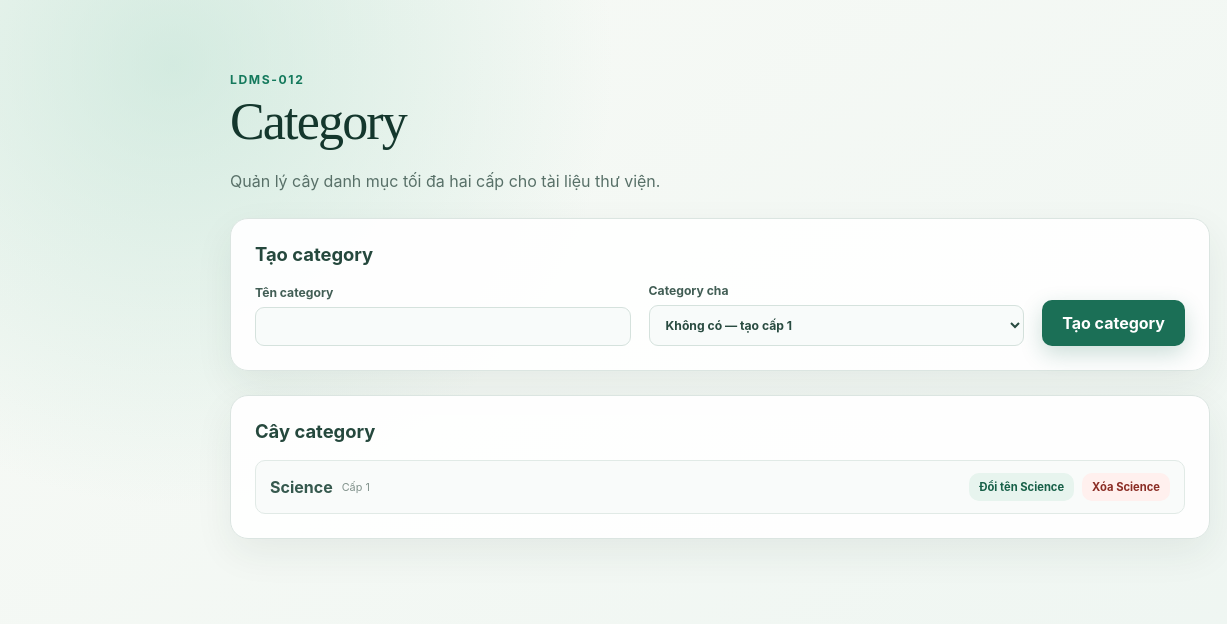
Scenario: CategoriesPage › creates a child, renames it and deletes it
Expected: the button "Đổi tên Science" is shown, [969,473,1074,501]
Type "Physics" into the field labelled "Tên category".
click(443, 326); type("Physics")  # box [255,307,631,346]
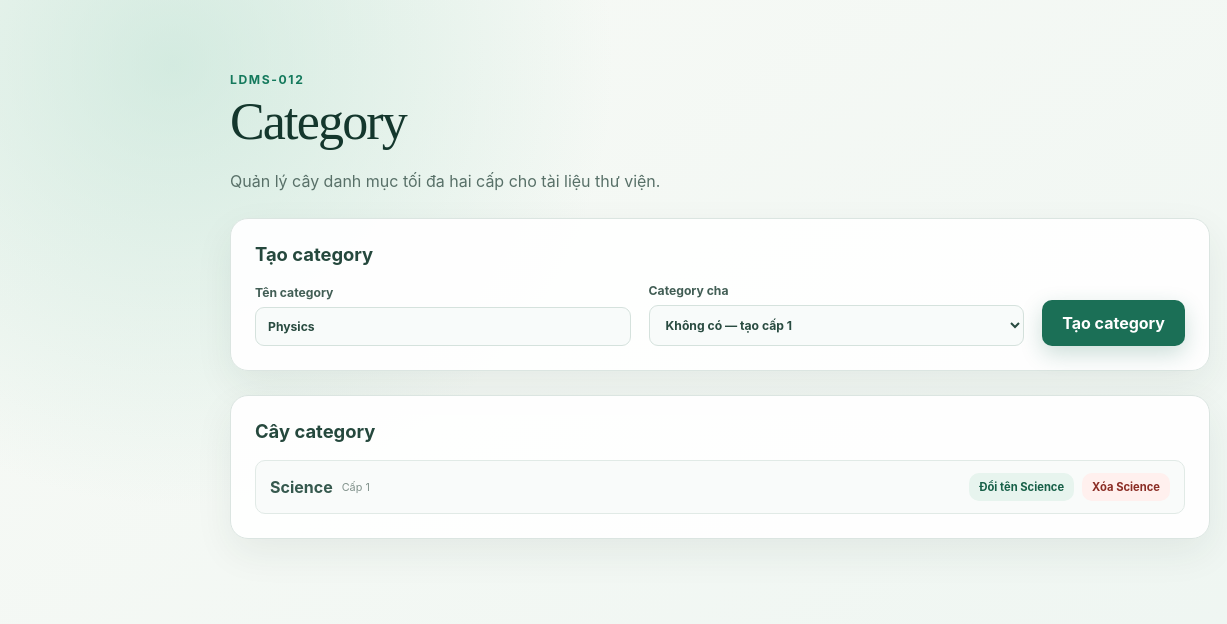
Select "Science" in the dropdown labelled "Category cha" at (836, 326), box [649,305,1024,346]
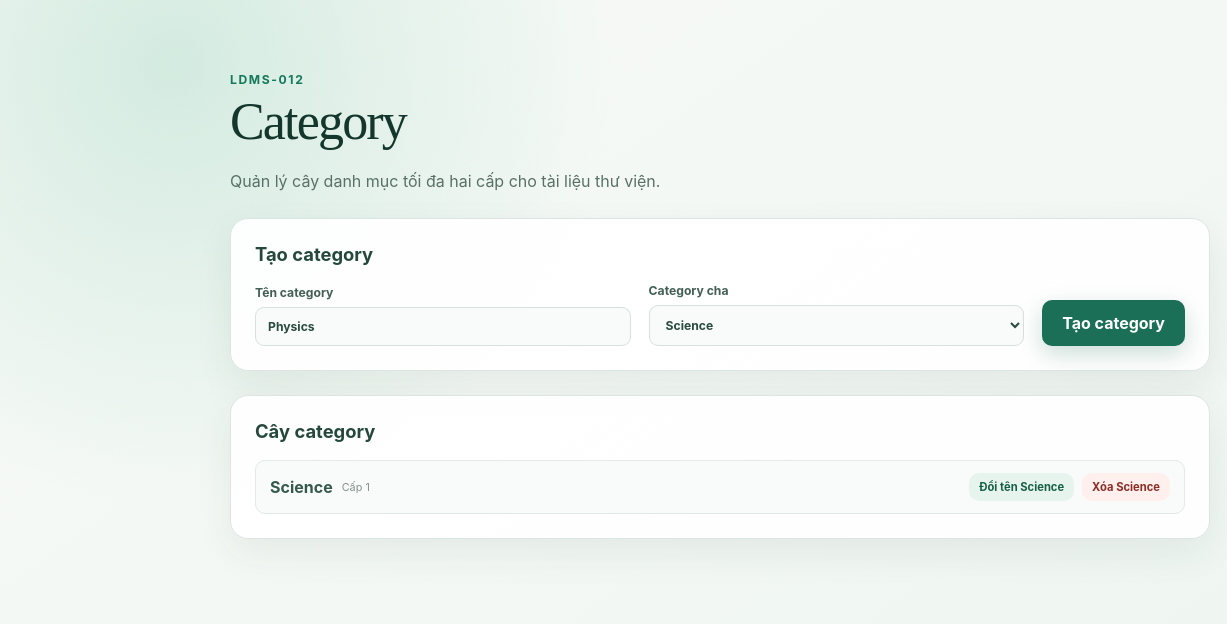
Click the button "Tạo category".
click(1114, 323)  # box [1042,300,1185,346]
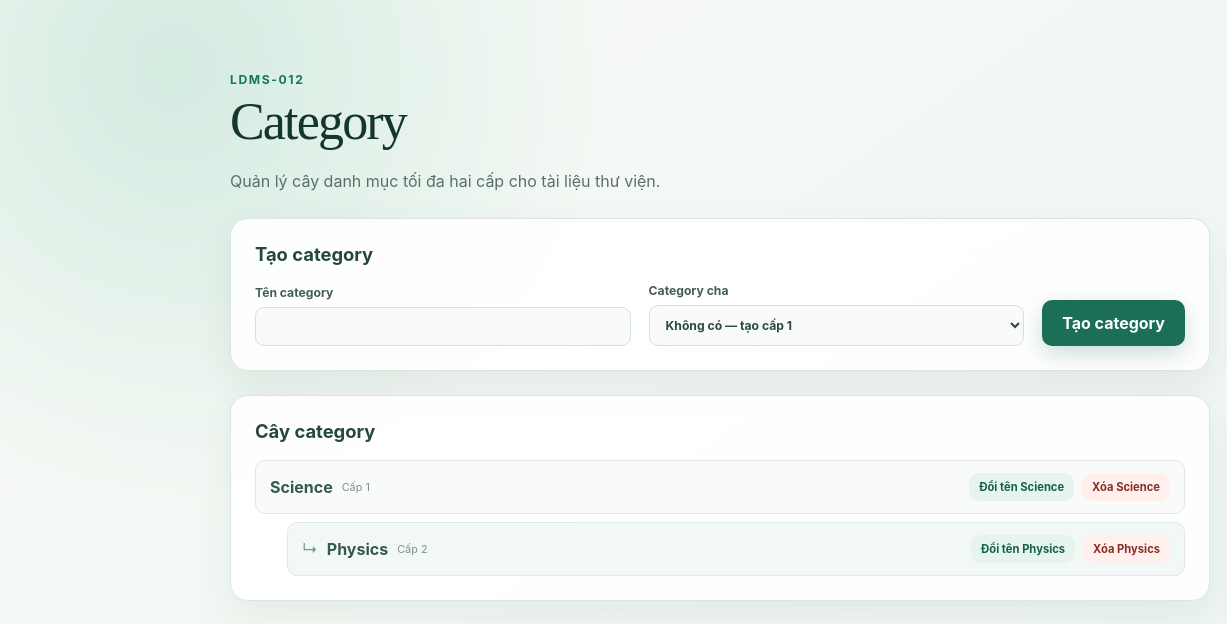
Now the button "Đổi tên Physics" is shown
Click the button "Đổi tên Physics".
click(1023, 549)  # box [971,535,1075,563]
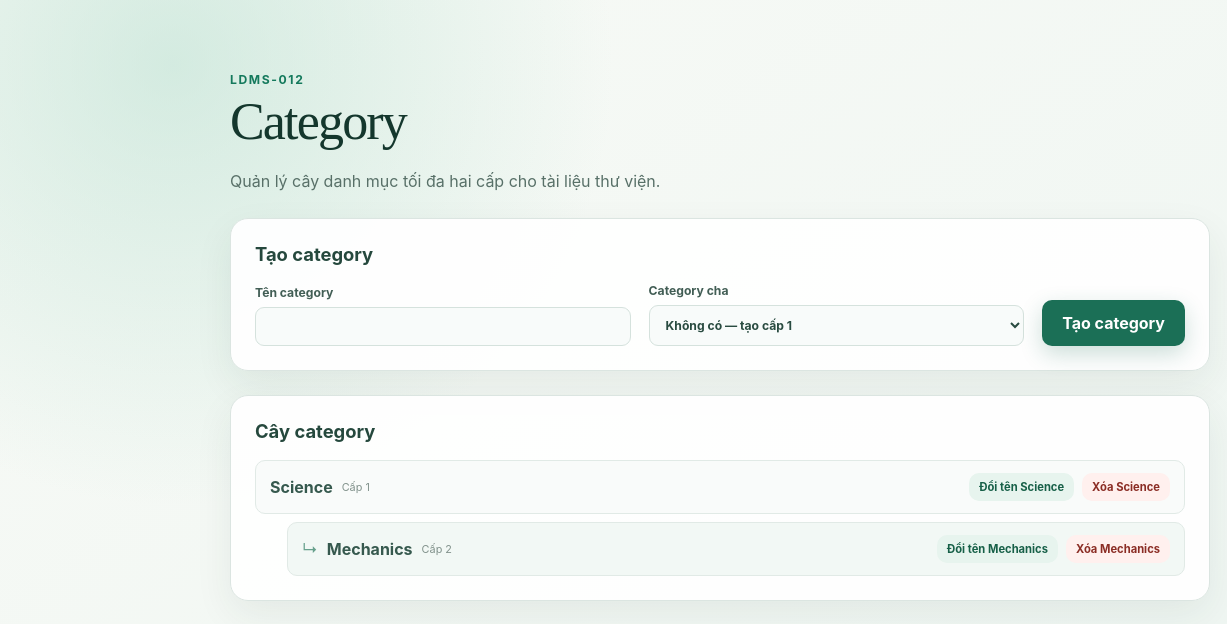
Now the button "Đổi tên Mechanics" is shown, box [937,535,1058,563]
Click the button "Xóa Mechanics".
click(1118, 549)  # box [1066,535,1170,563]
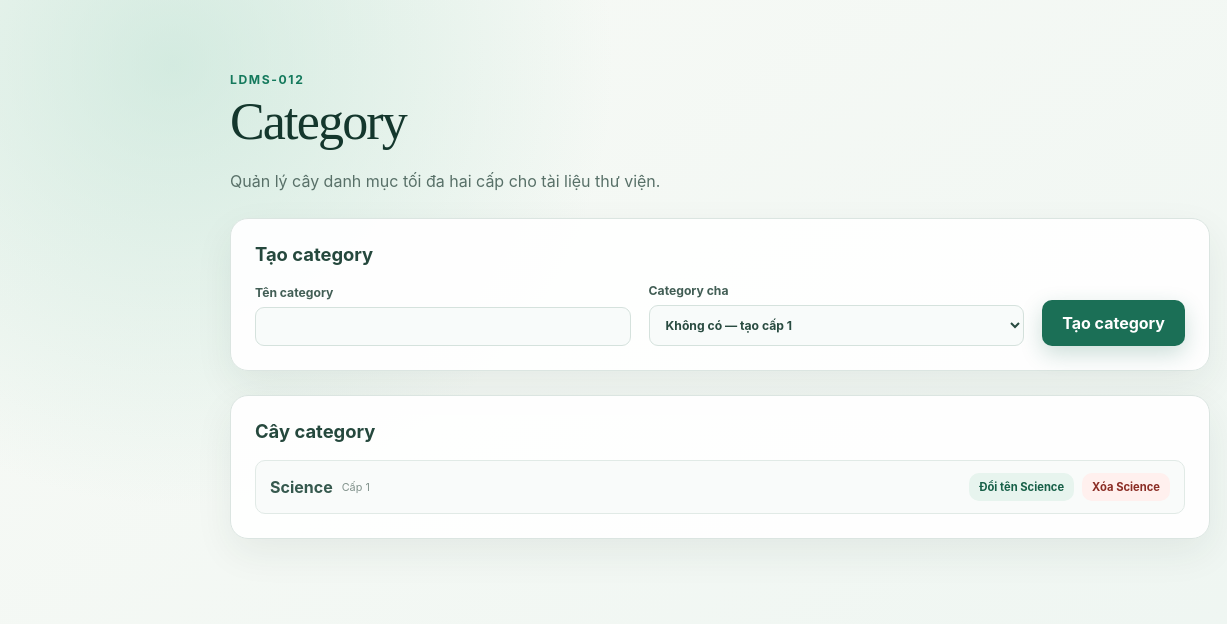
Now the button "Đổi tên Mechanics" is gone
